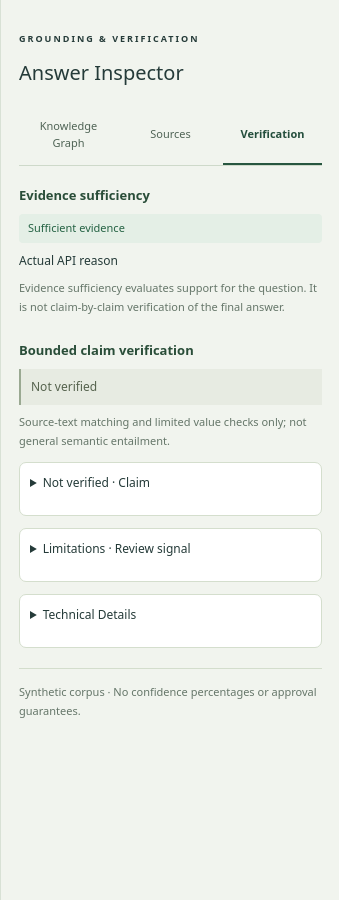
Test: shows real verification claims and review signal without approval
Expected: the text "Not verified" is shown, [19,369,322,405]
Click the heading "Limitations · Review signal" at x=117, y=549, box [43,540,190,557]
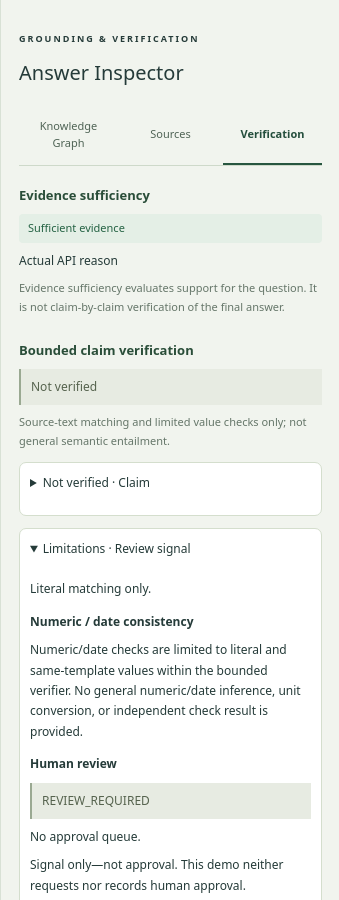
Now the text "REVIEW_REQUIRED" is shown, box [30,782,311,819]
